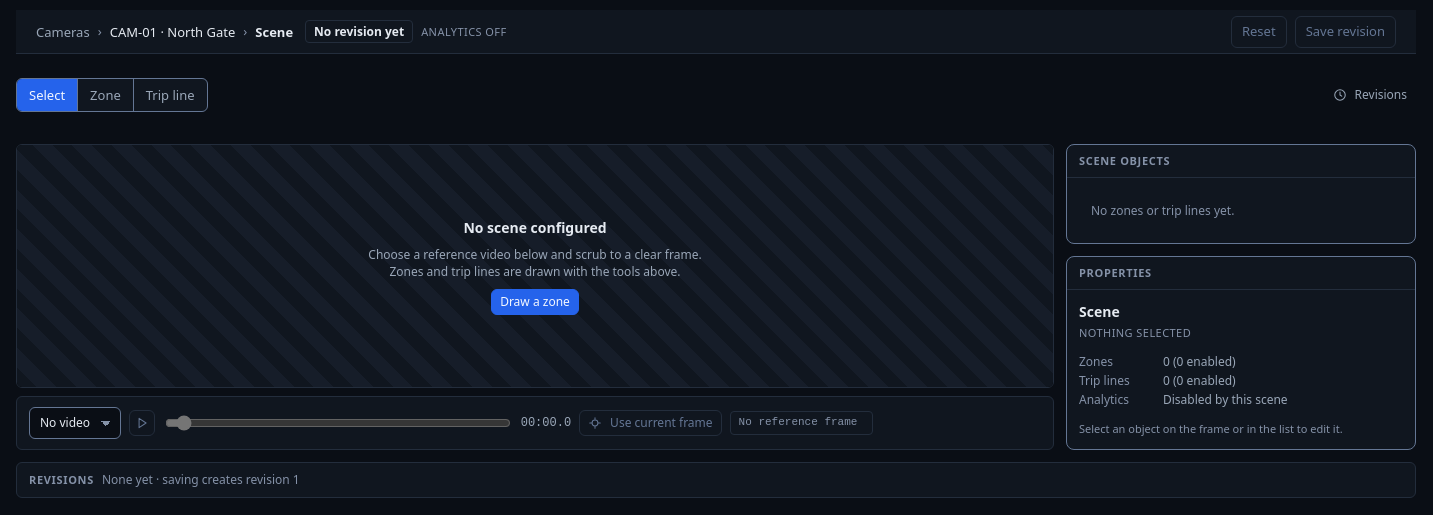
Scenario: scene editor › has one drawing entry: the mode strip, with one invitation to the first zone that arms the same tool (R4)
Expected: the text "No scene configured" is shown, [463, 218, 607, 238]
Expected: the button "Trip line" is enabled, [134, 79, 207, 111]
Click the button "Draw a zone" at (535, 302), box [491, 289, 579, 315]
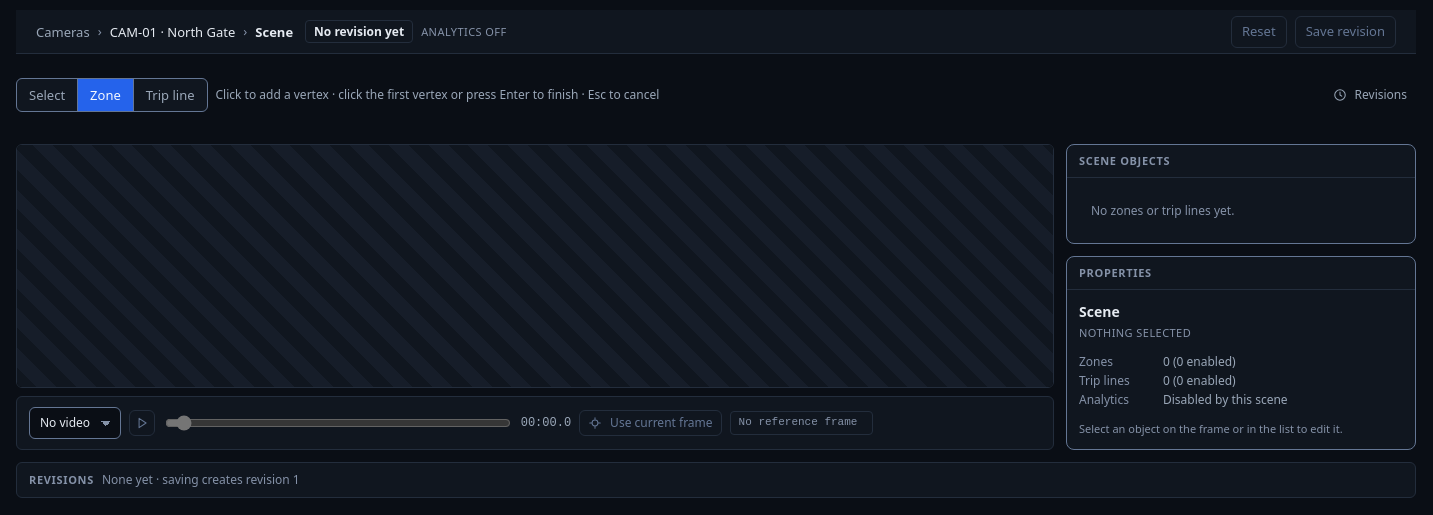
Now the text "No scene configured" is gone
Now the button "Draw a zone" is gone
